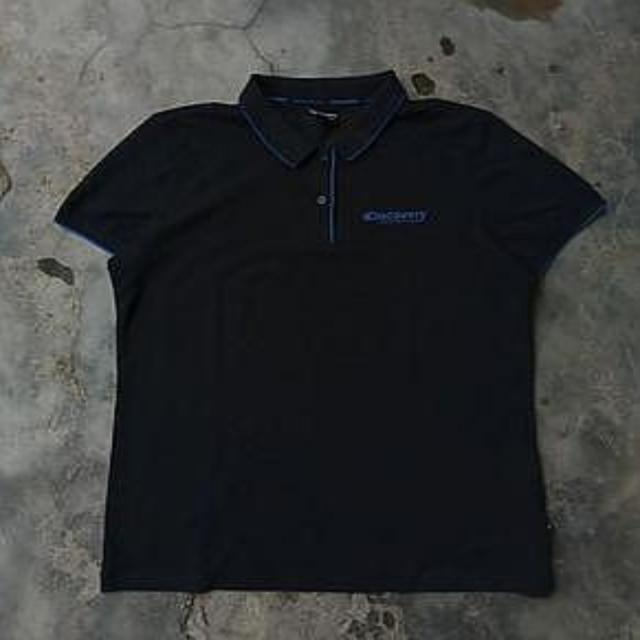T_SHIRT: (52, 58, 590, 602)
